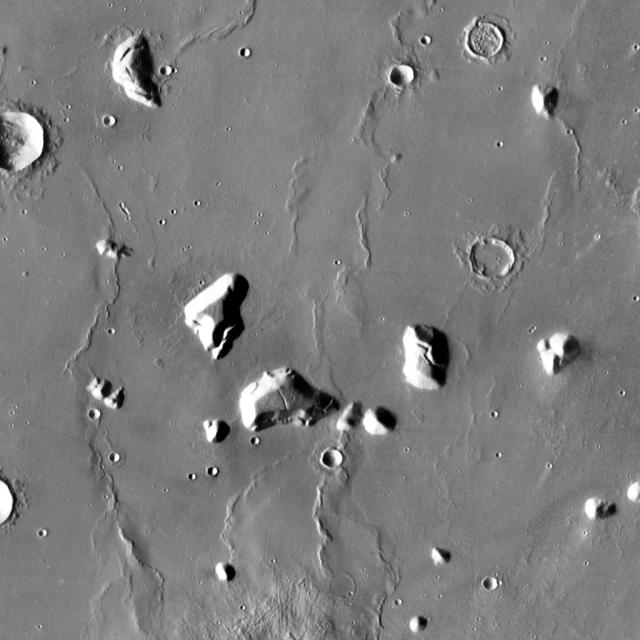crater: (0, 108, 42, 167), (471, 236, 515, 276), (468, 24, 504, 56), (329, 574, 356, 598), (391, 64, 415, 86), (322, 447, 344, 467), (483, 576, 498, 590), (88, 408, 100, 420), (105, 117, 116, 127), (162, 66, 172, 76), (421, 35, 431, 44), (208, 466, 218, 475), (110, 454, 120, 463), (241, 48, 250, 56), (394, 599, 402, 606), (253, 437, 261, 444), (40, 530, 47, 537), (108, 328, 115, 334)
